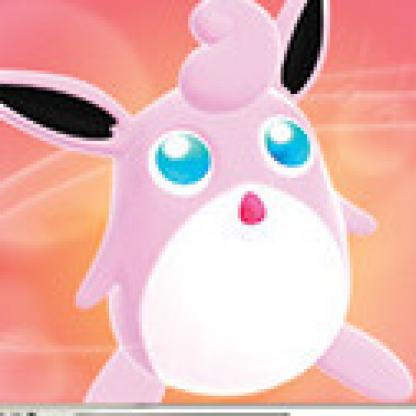Wigglytuff: (1, 1, 414, 414)
